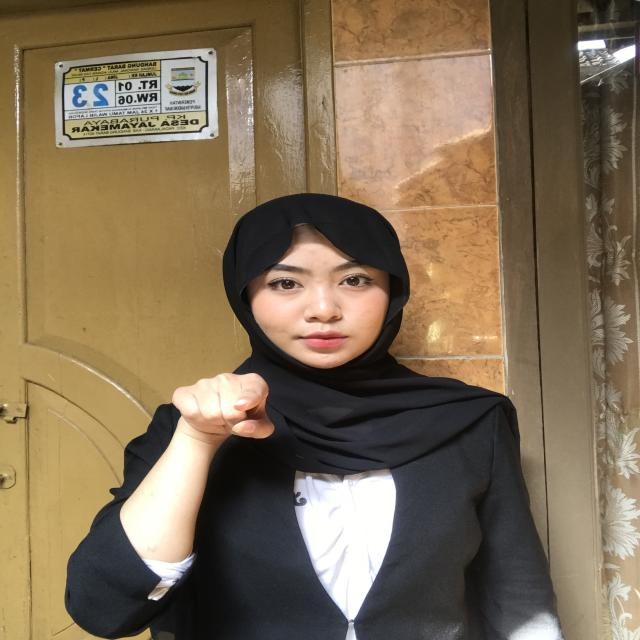kamu: (110, 342, 328, 473)
